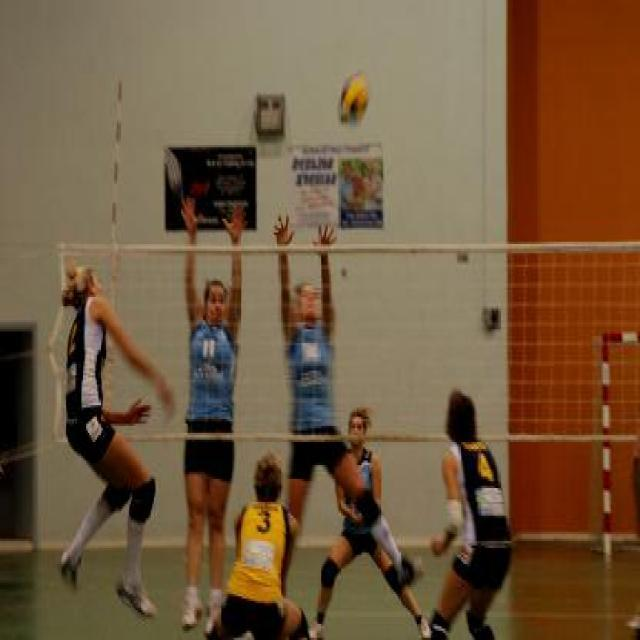volleyball: (337, 73, 370, 126)
